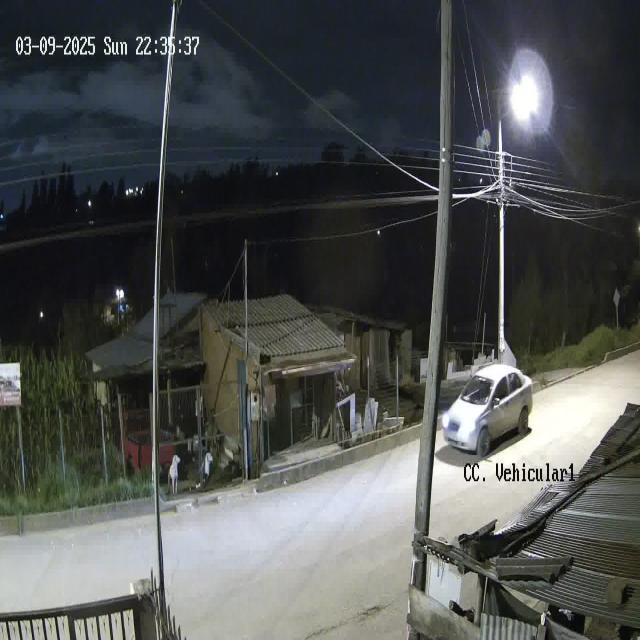SED: (442, 362, 533, 458)
